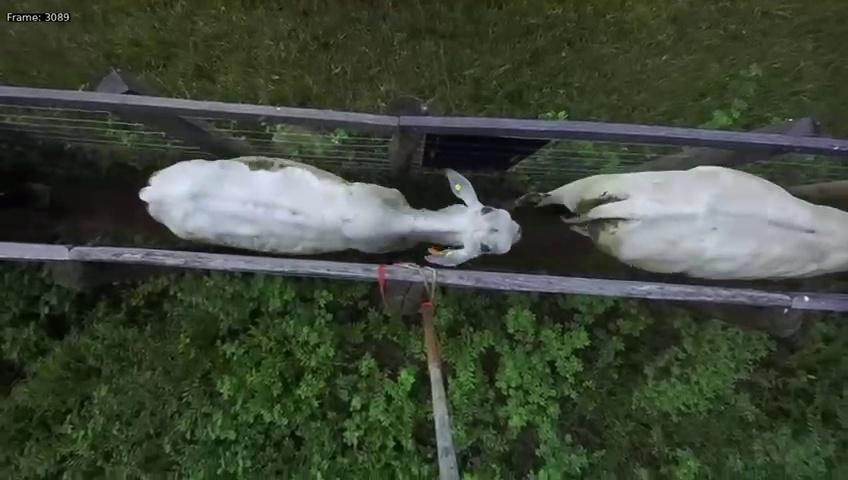cattle: (87, 153, 521, 267), (539, 158, 848, 284)
